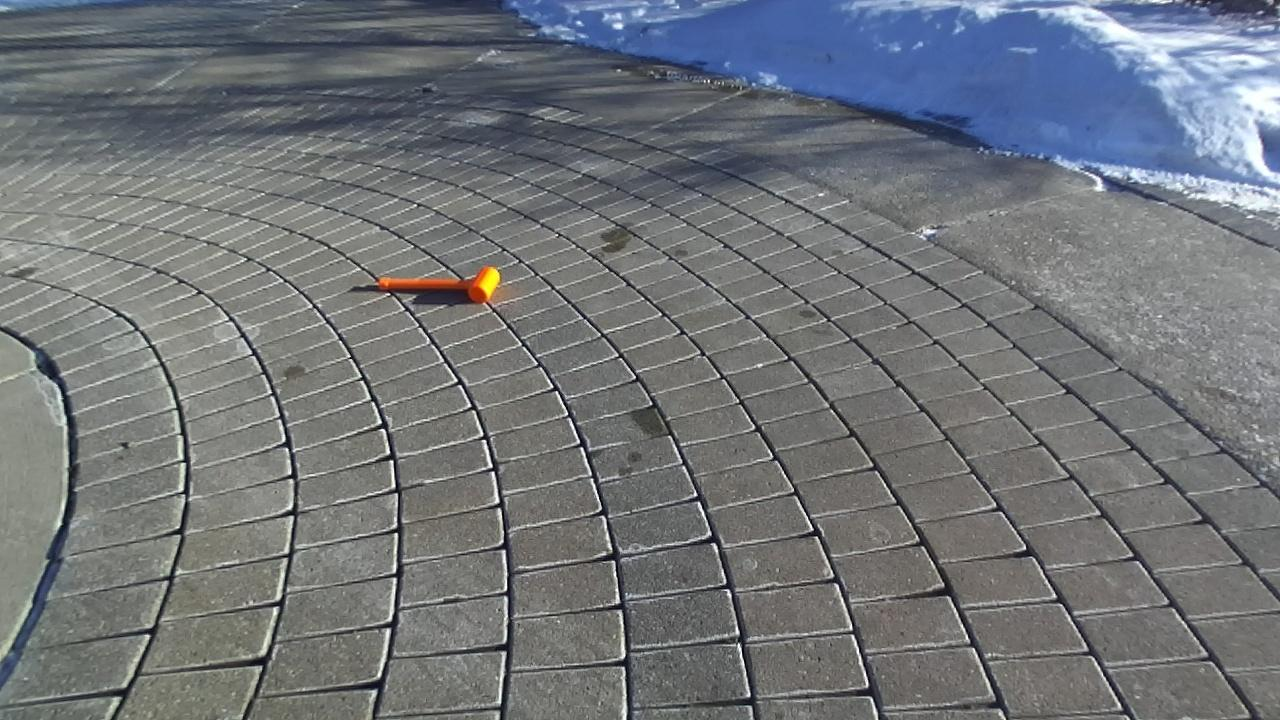mallet: (377, 266, 500, 302)
